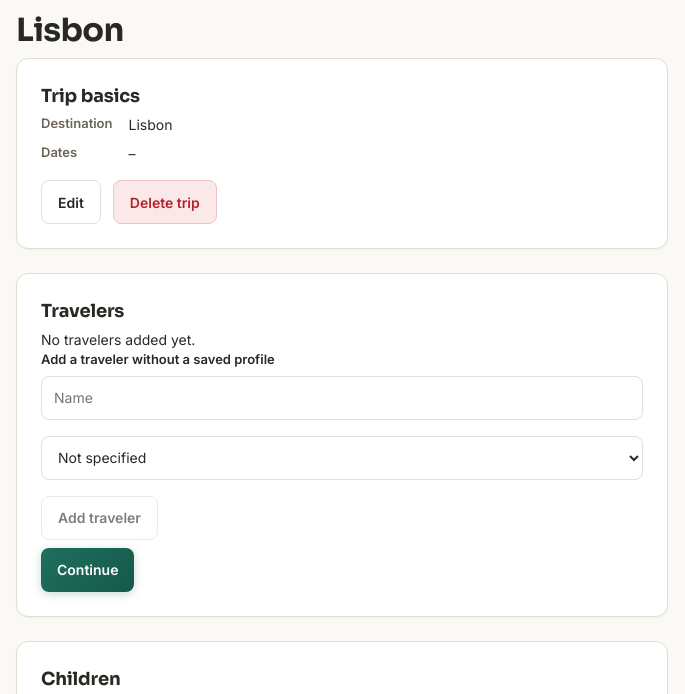
Test: TripWizardPage › adds a trip-only traveler without a saved profile
In the field labelled "Add a traveler without a saved profile": point(342, 398) [41,376,643,420], type "Cousin Alex"
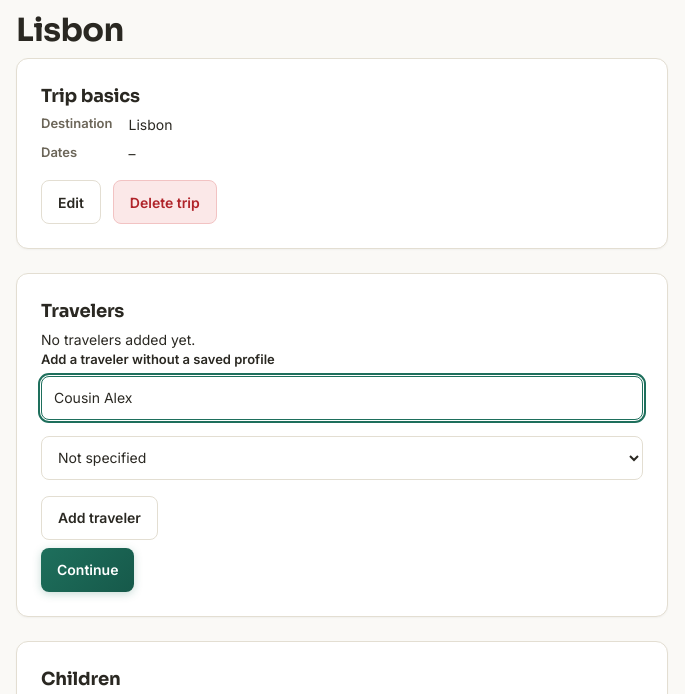
Click the button "Add traveler": point(99, 518) [41,496,158,540]
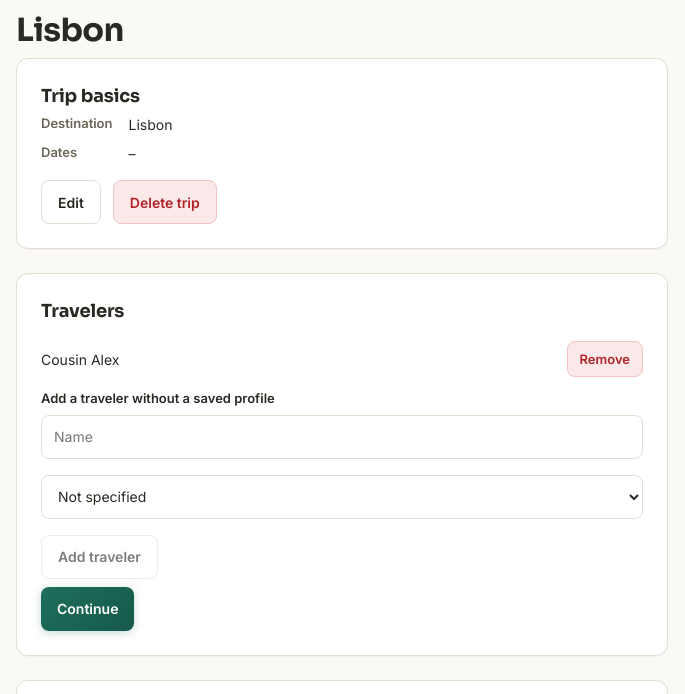
Now the text "Cousin Alex" is shown, box [41,348,119,370]
